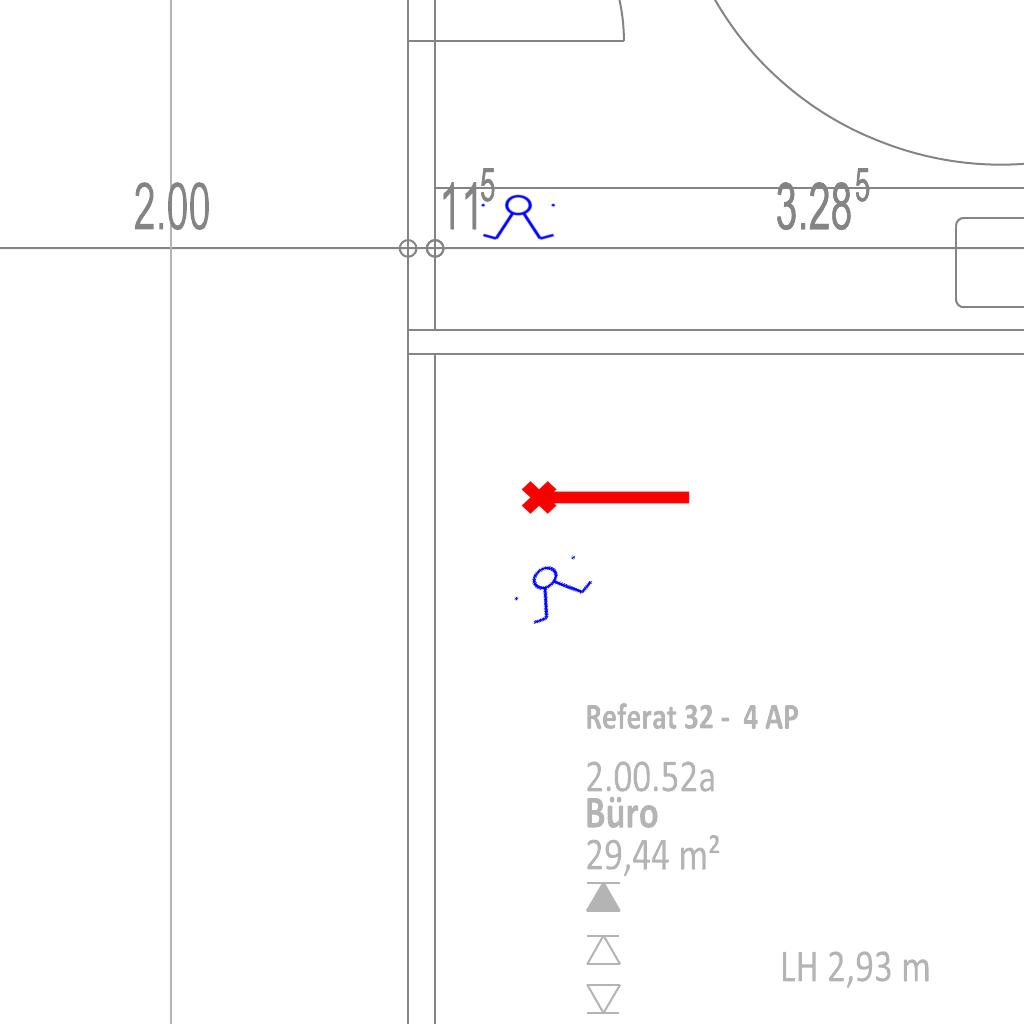ASR_Ansaugoeffnung: (519, 472, 695, 518)
Serienschalter: (504, 543, 602, 633), (477, 194, 561, 242)
